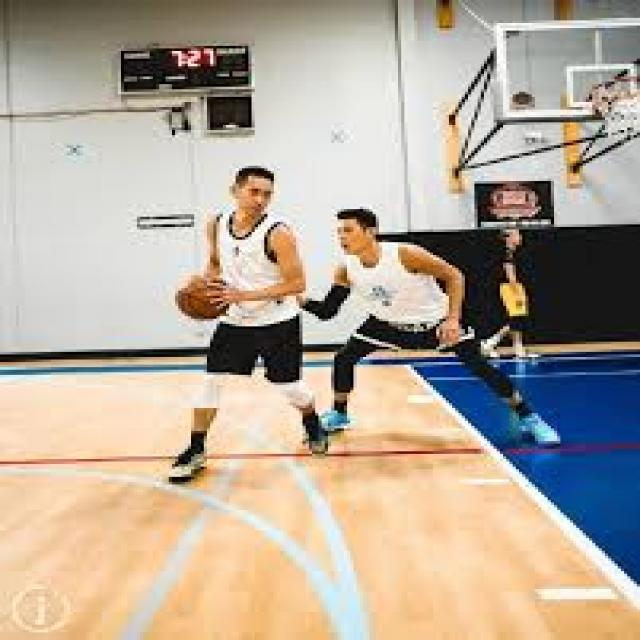rim: (182, 273, 236, 319)
